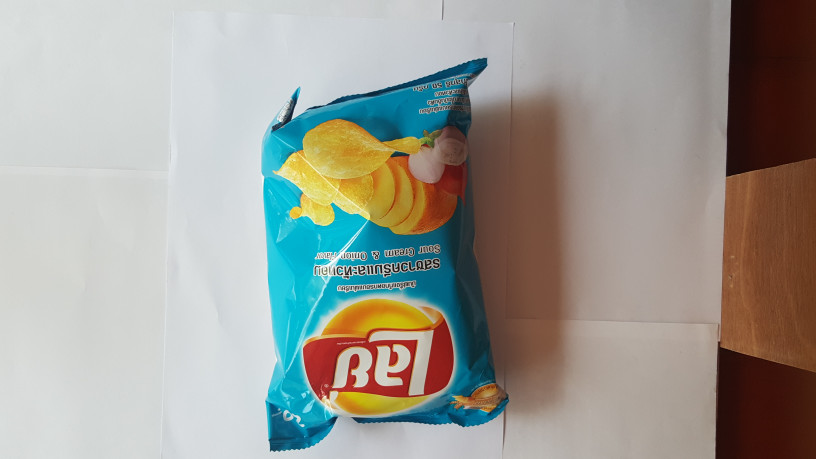lays-onion: (254, 55, 519, 454)
